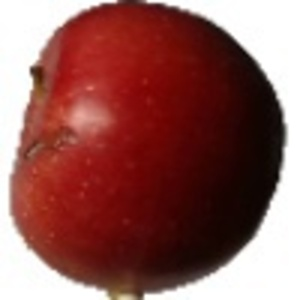maçã braeburn: (6, 1, 292, 290)
